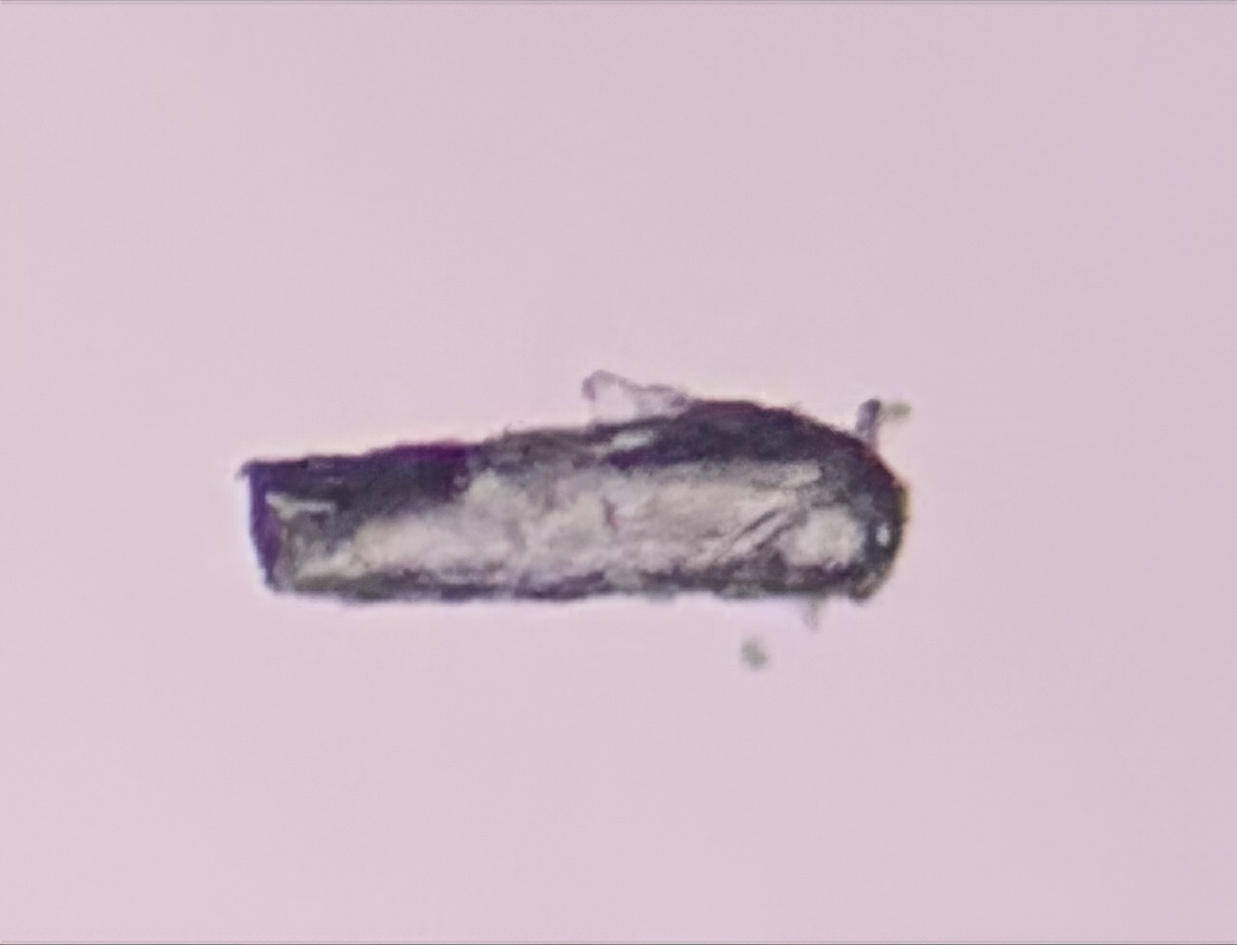microplastic: (230, 374, 910, 626), (740, 637, 764, 668)
